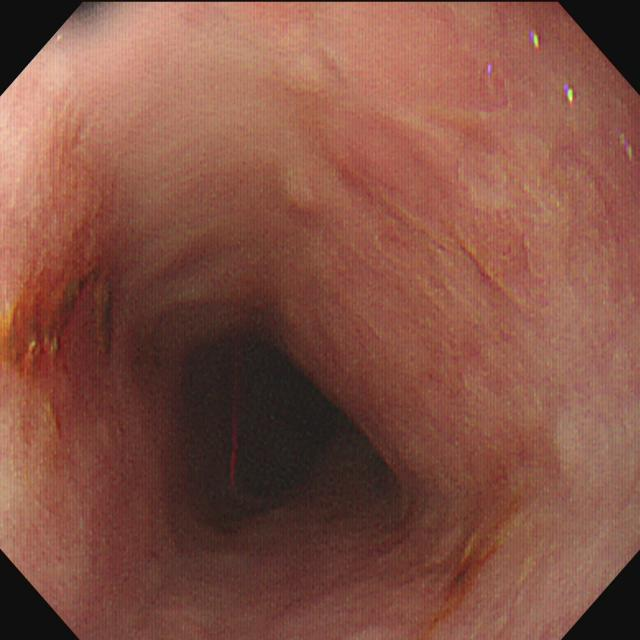A: (325, 106, 559, 299)
E: (154, 304, 413, 567)
J: (2, 270, 121, 376)
U: (531, 30, 543, 55), (566, 86, 579, 108)
